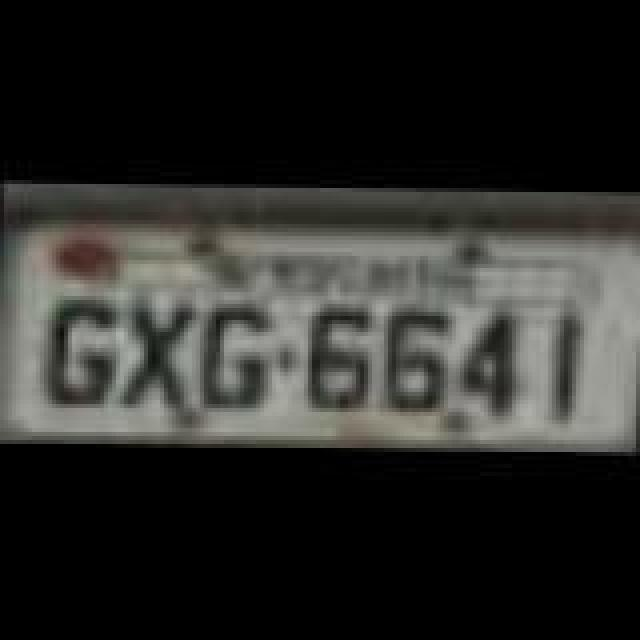1: (550, 314, 586, 422)
4: (458, 300, 526, 420)
6: (310, 300, 378, 412), (382, 306, 450, 414)
G: (46, 294, 122, 410), (206, 296, 274, 408)
X: (126, 296, 194, 408)
